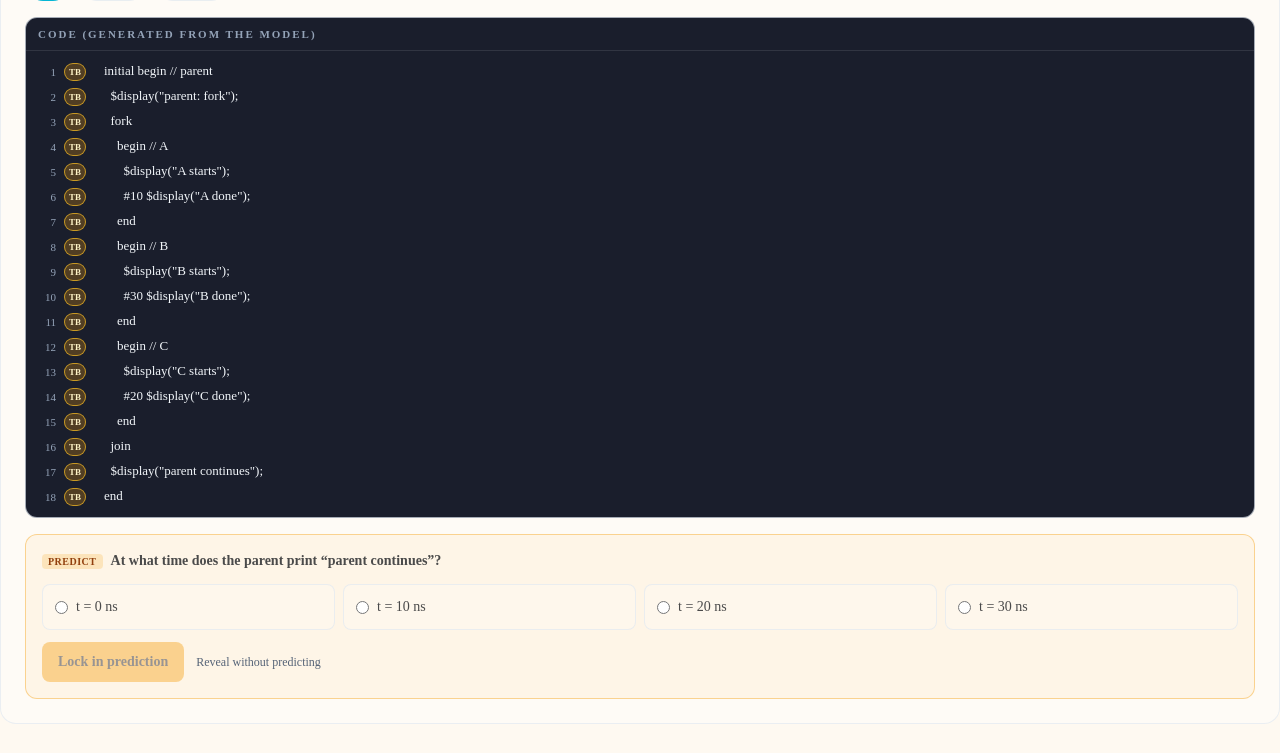
it: ForkJoinVisualizer › hides the run until a prediction is locked in, then diagnoses it
The width and height of the screenshot is (1280, 753).
(page scrolled)
Expected: the text "Simulation output" is not shown
Click the radio button labelled "t = 0 ns".
click(62, 608)  # box [55,601,68,614]
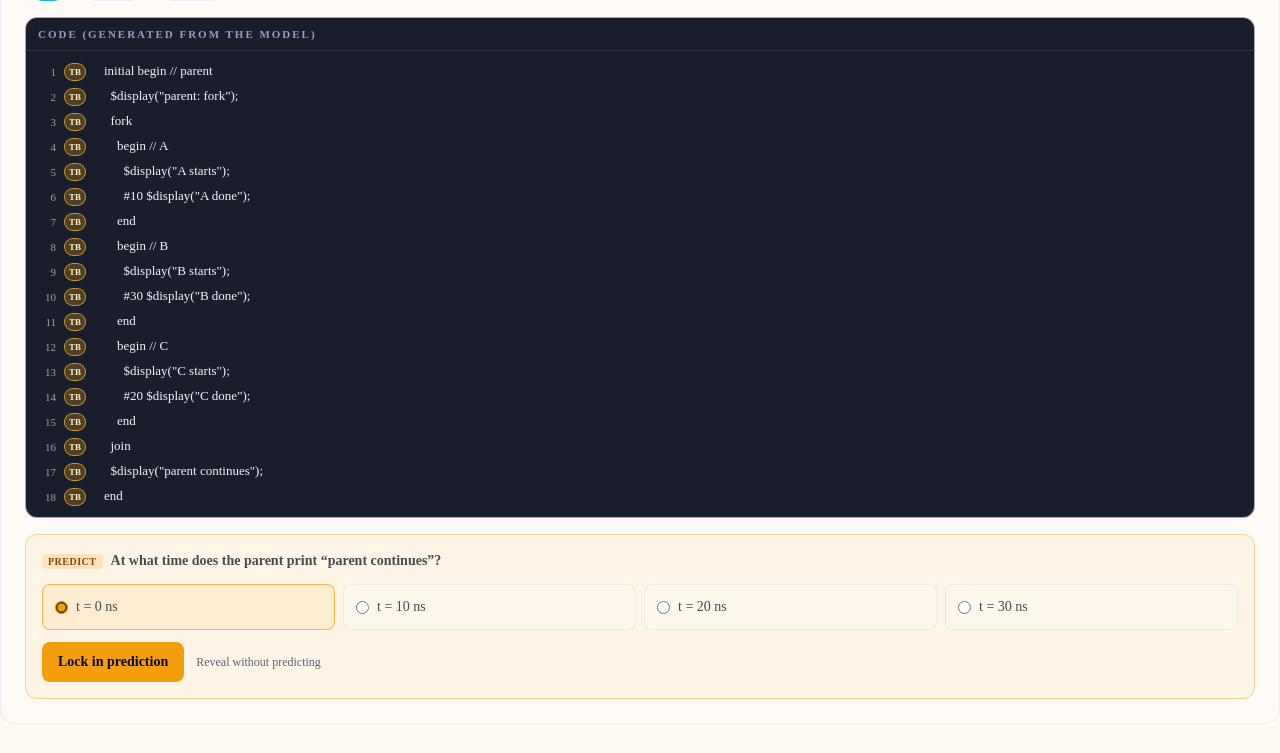
Click the button "Lock in prediction".
click(113, 662)  # box [42,642,184,682]
(page scrolled)
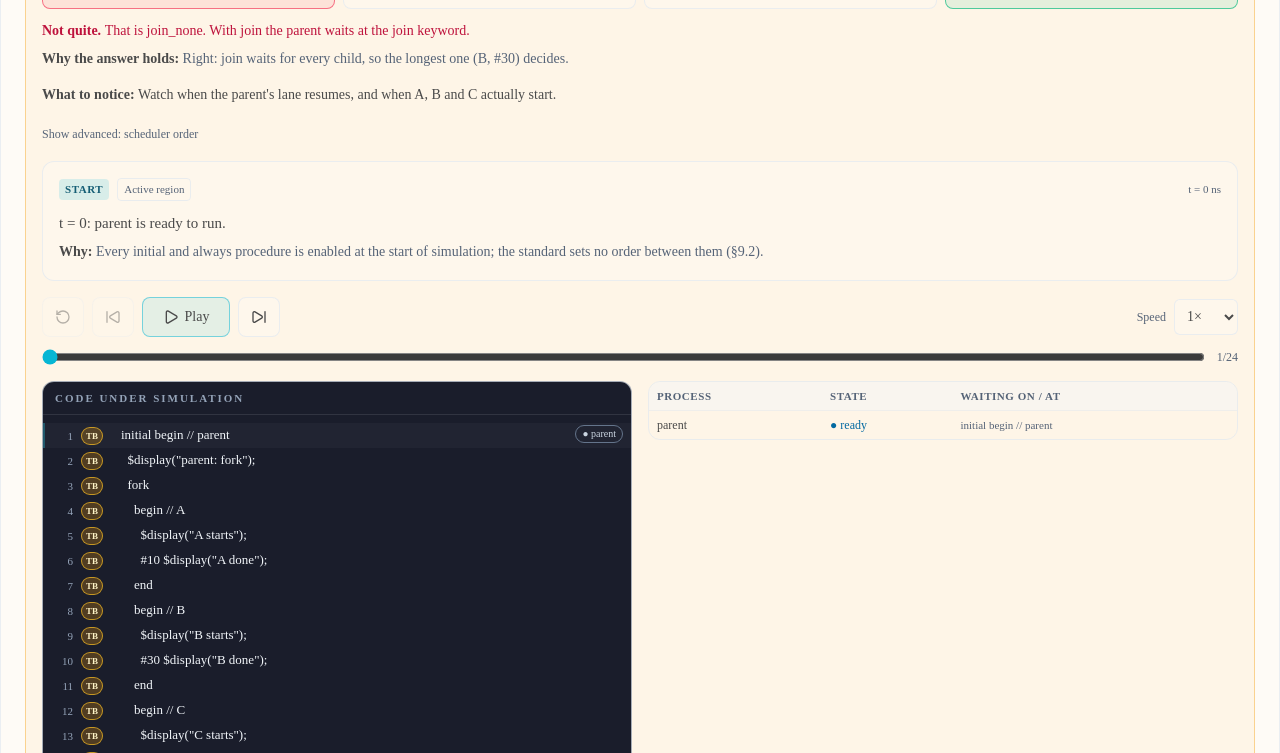
Expected: the text "Not quite." is shown, [42,23,105,38]
Expected: the text "That is join_none" is shown, [105,23,470,38]
Expected: the text "join waits for every child, so the longest one" is shown, [182,51,569,66]
Set the slider named "process step scrubber" to "23" at x=1197, y=357, box [42,353,1205,361]
(page scrolled)
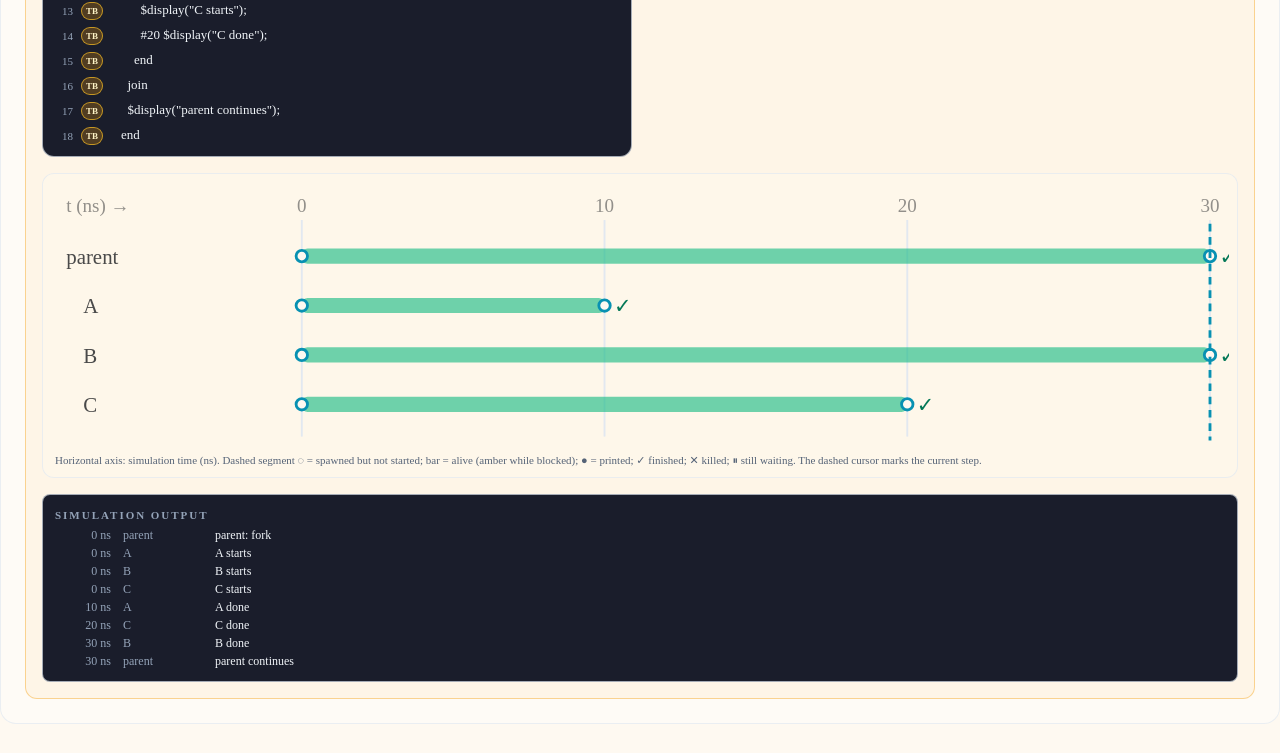
Expected: the list item "parent continues" shows "30 ns", [85,654,294,668]
